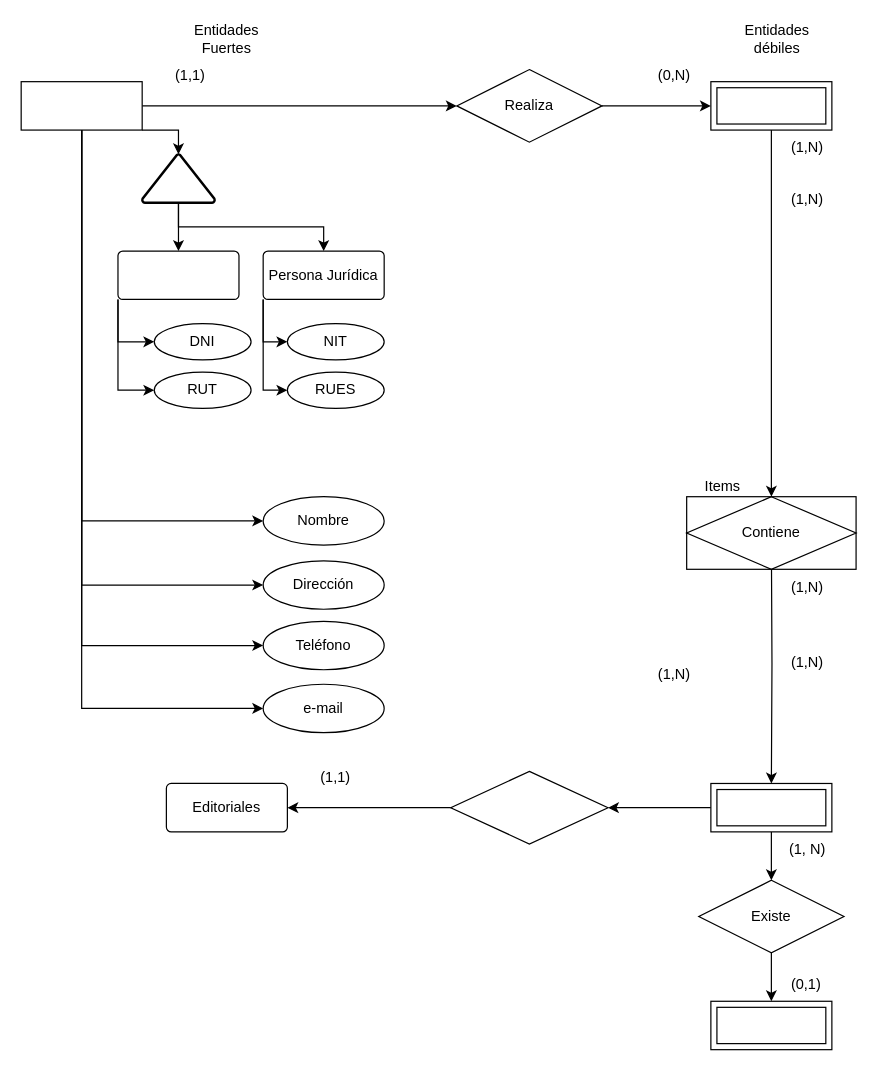
Image size: 877x1071. Some labels were removed from this diagram. Each missing label, with the box of its shape:
Clientes: (20, 80, 142, 130)
ID: (140, 152, 215, 203)
Inventario: (710, 1000, 832, 1050)
Libros: (710, 782, 832, 832)
Pedido de compra: (710, 80, 832, 130)
Persona Natural: (117, 250, 239, 299)
Pertenece: (450, 770, 608, 844)
